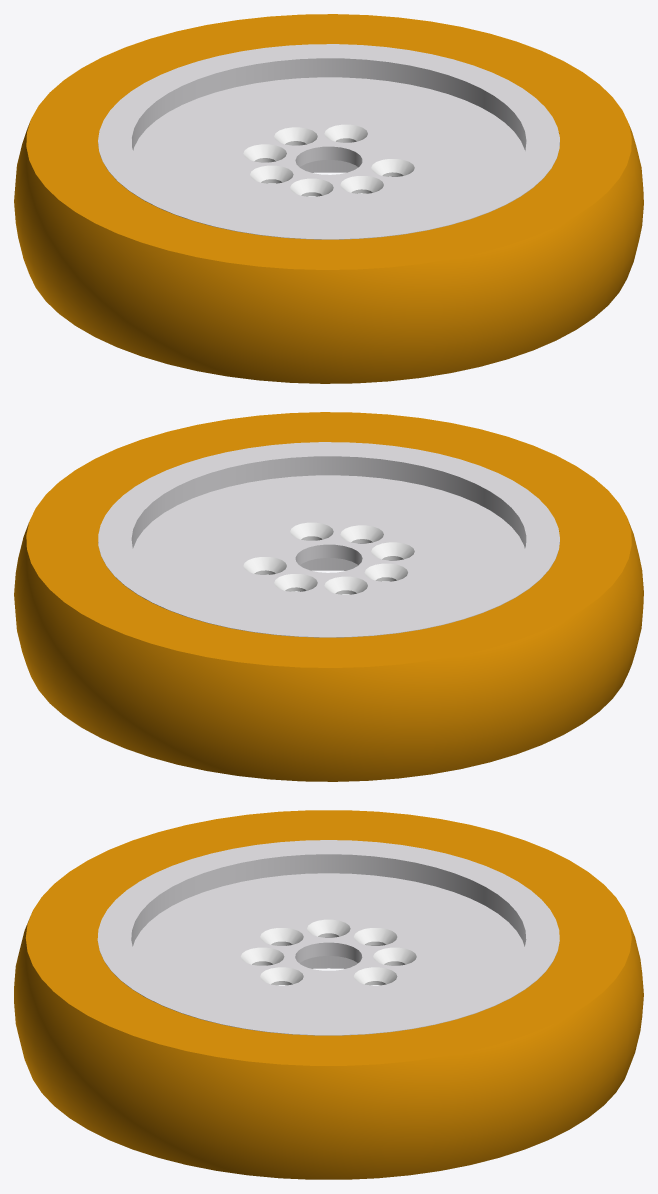
File: diff_wheel.dae
3 renders of one model, top to bottom at view 1: azimuth 30°, elevation 25°; view 2: azimuth 150°, elevation 25°; view 3: azimuth 270°, elevation 25°, orthographic.
Parts seen in each view (by area): view 1: Rad Räder Vogel 150x30 PLFE 2; view 2: Rad Räder Vogel 150x30 PLFE 2; view 3: Rad Räder Vogel 150x30 PLFE 2.
Part boxes in pixels (<box>): Rad Räder Vogel 150x30 PLFE 2: <box>14,14,643,383</box>; Rad Räder Vogel 150x30 PLFE 2: <box>14,412,643,781</box>; Rad Räder Vogel 150x30 PLFE 2: <box>14,810,643,1179</box>.
Size of the model in its own units: 150 by 150 by 30.
